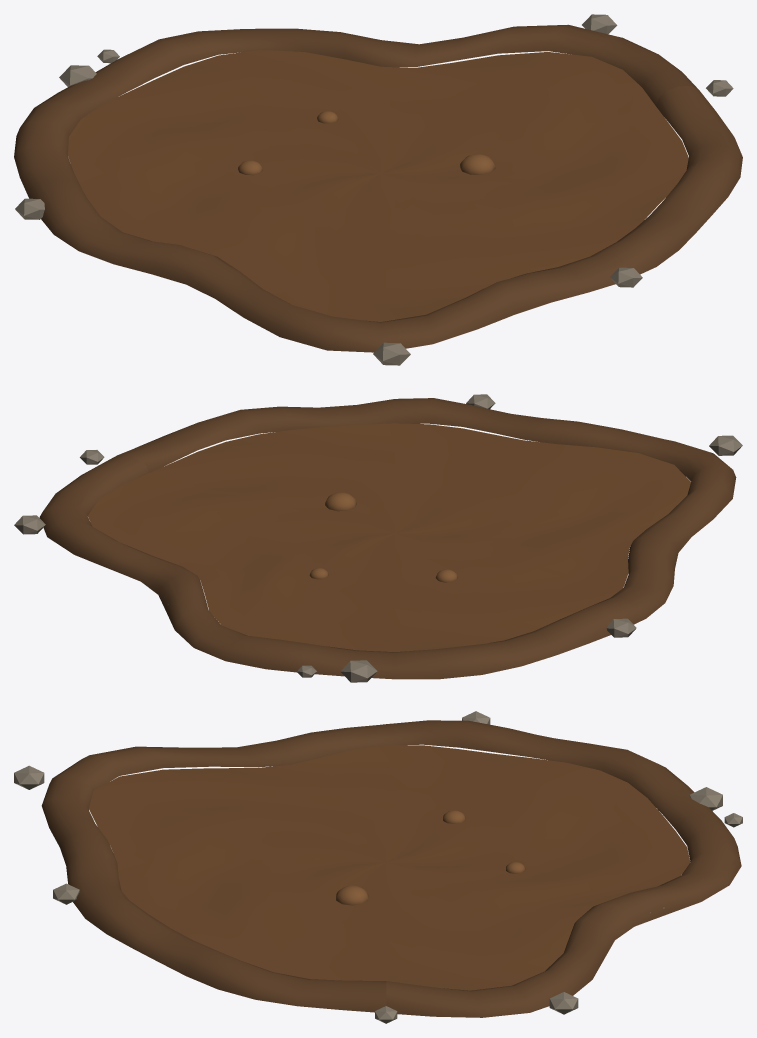
Rendered from mud3d.fec6765e.glb.
3 renders of one model, top to bottom at view 1: azimuth 30°, elevation 25°; view 2: azimuth 150°, elevation 25°; view 3: azimuth 270°, elevation 25°, orthographic. The views are drawn at different scales.
Parts seen in each view (by area): view 1: mud; view 2: mud; view 3: mud.
Boxes of the visible parts, x1,y1,x2,y2 form: mud: [14, 14, 742, 365]; mud: [14, 394, 742, 682]; mud: [14, 711, 742, 1023].
Bounding box in the file's own units: 2.11 × 0.0657 × 2.14.
